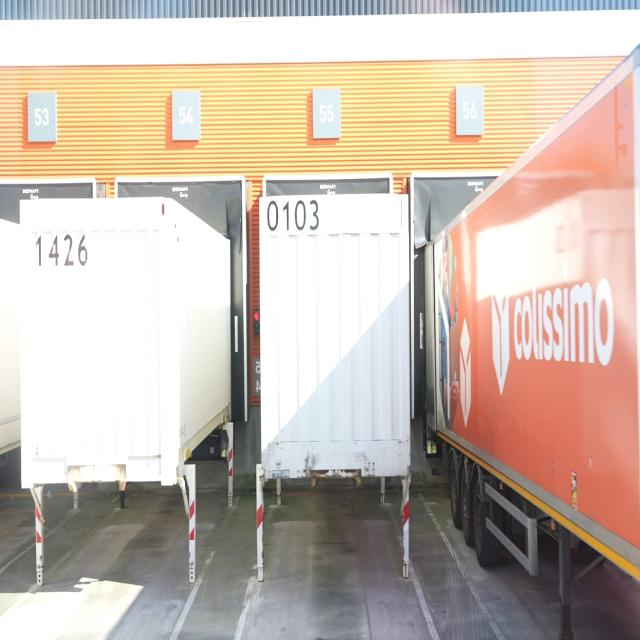Code: (33, 228, 94, 274), (264, 194, 322, 238)
